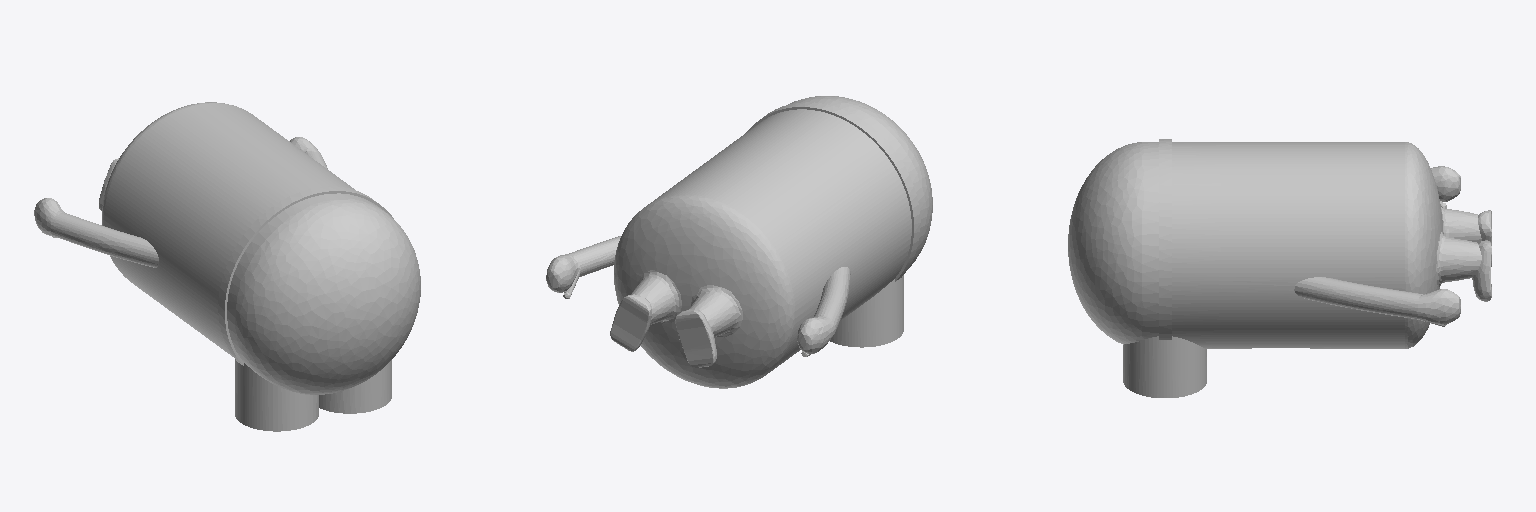
File: 86250-minion_QEM_90pct.obj
The picture shows the model from 3 angles: view 1: azimuth 30°, elevation 25°; view 2: azimuth 150°, elevation 25°; view 3: azimuth 270°, elevation 25°; orthographic projection.
Bounding box in the file's own units: 0.7525 × 0.5562 × 1.